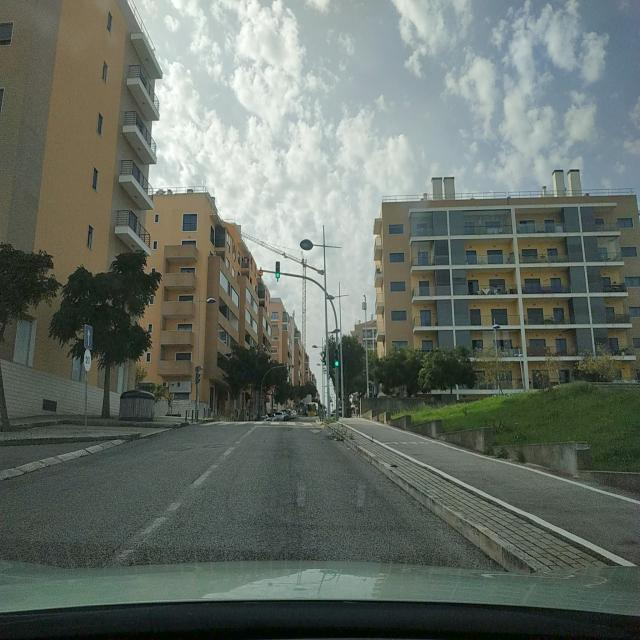car: (273, 410, 284, 421), (282, 409, 291, 420), (290, 409, 298, 420)
